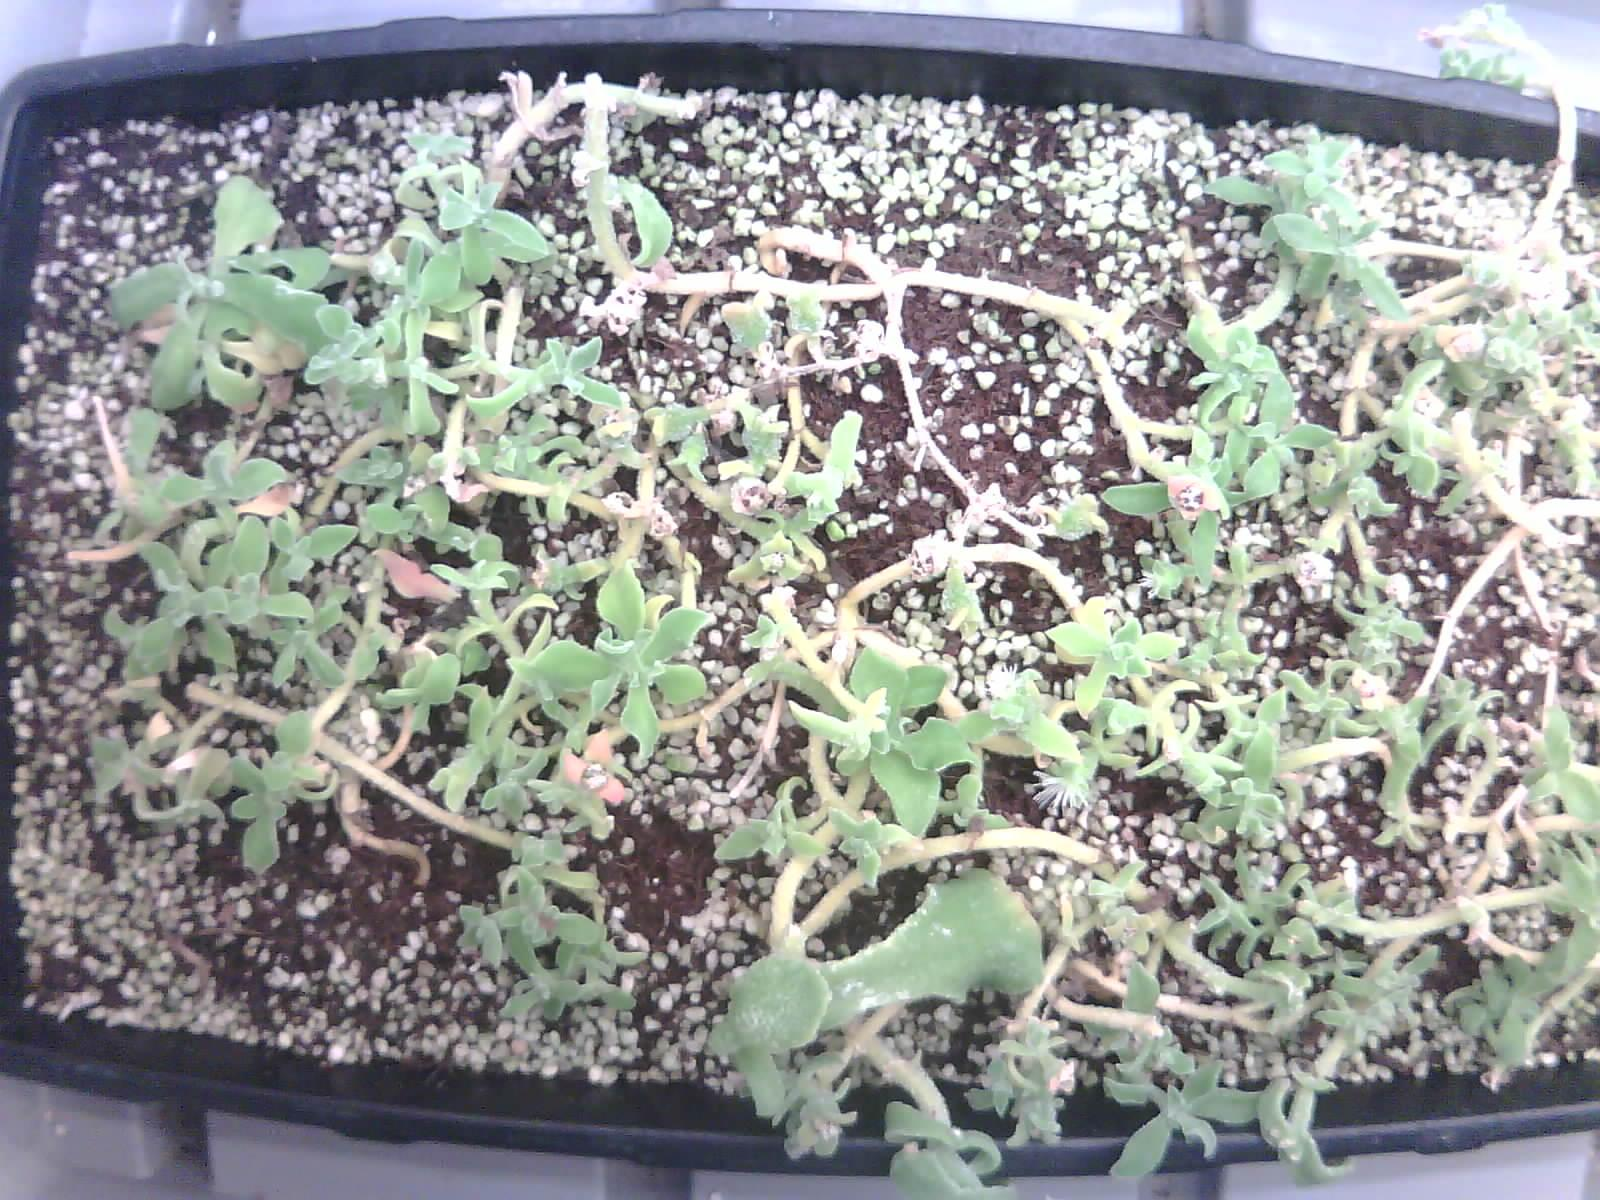leaf: (1102, 316, 1339, 585), (711, 874, 1044, 1056), (113, 179, 339, 413), (789, 650, 1022, 834), (110, 518, 348, 684), (514, 567, 707, 756), (1209, 139, 1403, 320), (460, 834, 645, 1020), (1107, 1035, 1335, 1182), (1451, 842, 1600, 1066), (307, 239, 476, 435), (1376, 679, 1498, 845), (1167, 689, 1289, 848), (964, 673, 1101, 814), (1410, 304, 1600, 405), (1314, 948, 1439, 1079), (232, 713, 329, 874), (94, 713, 232, 823), (121, 445, 289, 534), (1198, 855, 1327, 971), (461, 339, 624, 425), (970, 1020, 1073, 1146), (1048, 620, 1182, 717), (884, 1104, 1014, 1200), (740, 1054, 857, 1158), (438, 185, 551, 285), (367, 484, 503, 563), (1077, 682, 1196, 770), (717, 779, 826, 860), (785, 413, 864, 524), (776, 1054, 857, 1160), (432, 684, 498, 814), (1335, 585, 1426, 678), (470, 417, 592, 485), (1385, 361, 1445, 498), (1529, 707, 1600, 824), (1279, 661, 1373, 740), (1304, 442, 1398, 521), (1251, 961, 1346, 1035), (270, 514, 357, 595), (379, 650, 464, 731), (829, 811, 913, 889), (542, 751, 614, 842), (1179, 601, 1267, 674), (483, 739, 551, 826), (648, 405, 714, 476), (620, 182, 673, 270), (714, 405, 792, 460), (426, 616, 493, 678), (542, 689, 595, 754), (1039, 495, 1110, 542), (942, 570, 985, 639), (723, 292, 774, 350), (432, 560, 520, 592), (341, 447, 409, 488), (126, 410, 164, 476), (1141, 557, 1196, 599), (1126, 964, 1160, 1013), (789, 292, 826, 335), (742, 616, 785, 653)
pot: (1, 16, 1600, 1192)
stem: (634, 229, 1193, 505), (661, 543, 1085, 745), (302, 534, 514, 850), (1411, 413, 1600, 705), (1296, 813, 1591, 982), (569, 431, 828, 609), (489, 74, 698, 287), (1352, 82, 1579, 263), (1090, 858, 1288, 1008), (1342, 275, 1477, 437), (1013, 897, 1165, 1039), (1211, 493, 1398, 599), (816, 1003, 954, 1128), (719, 352, 831, 497), (1177, 231, 1300, 354), (471, 592, 559, 754), (144, 679, 289, 768), (1425, 759, 1528, 879), (302, 426, 408, 534), (878, 828, 1101, 877), (438, 289, 529, 397), (772, 853, 867, 957), (729, 683, 785, 800), (68, 512, 189, 562), (809, 737, 873, 823), (1155, 995, 1276, 1036), (1283, 739, 1393, 775), (969, 737, 1054, 784), (706, 371, 794, 410), (96, 402, 131, 487), (470, 466, 556, 495), (1146, 661, 1228, 688), (1072, 961, 1129, 1000), (1310, 1032, 1344, 1079), (445, 400, 467, 466), (939, 687, 970, 721), (1128, 676, 1157, 707), (1054, 645, 1096, 666), (813, 822, 843, 848), (1048, 702, 1080, 724)
